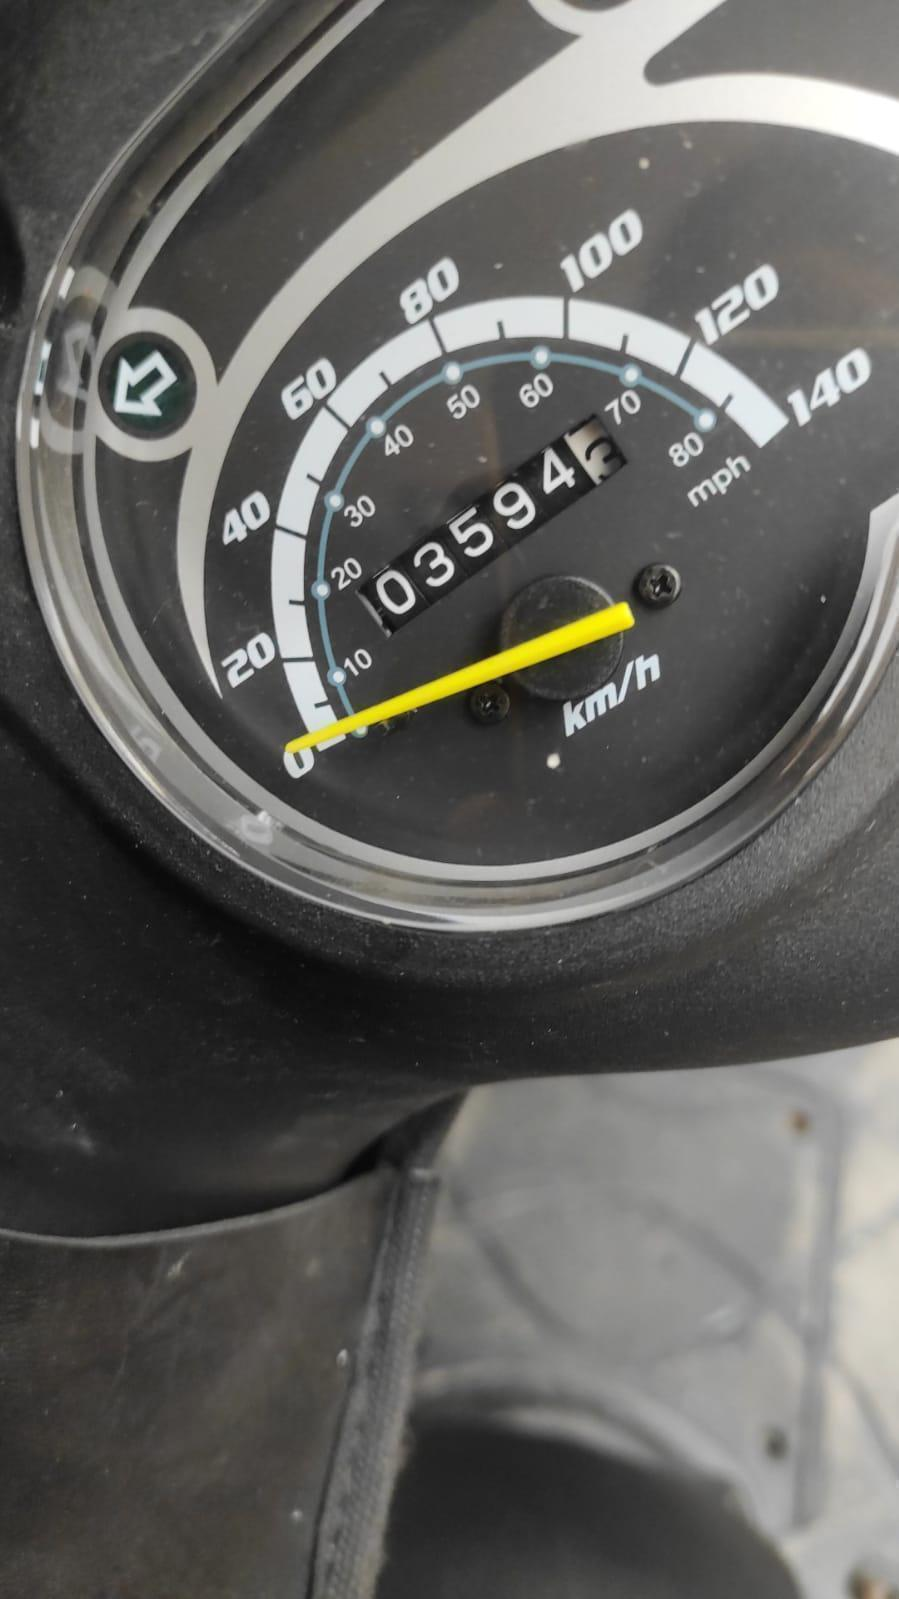0: (373, 568, 417, 616), (392, 423, 415, 448), (355, 493, 377, 518)
3: (411, 540, 456, 588), (584, 437, 627, 482)
4: (540, 446, 577, 494), (383, 432, 400, 457)
5: (446, 507, 495, 559)
9: (491, 481, 536, 532)
odometer: (353, 411, 630, 640)
